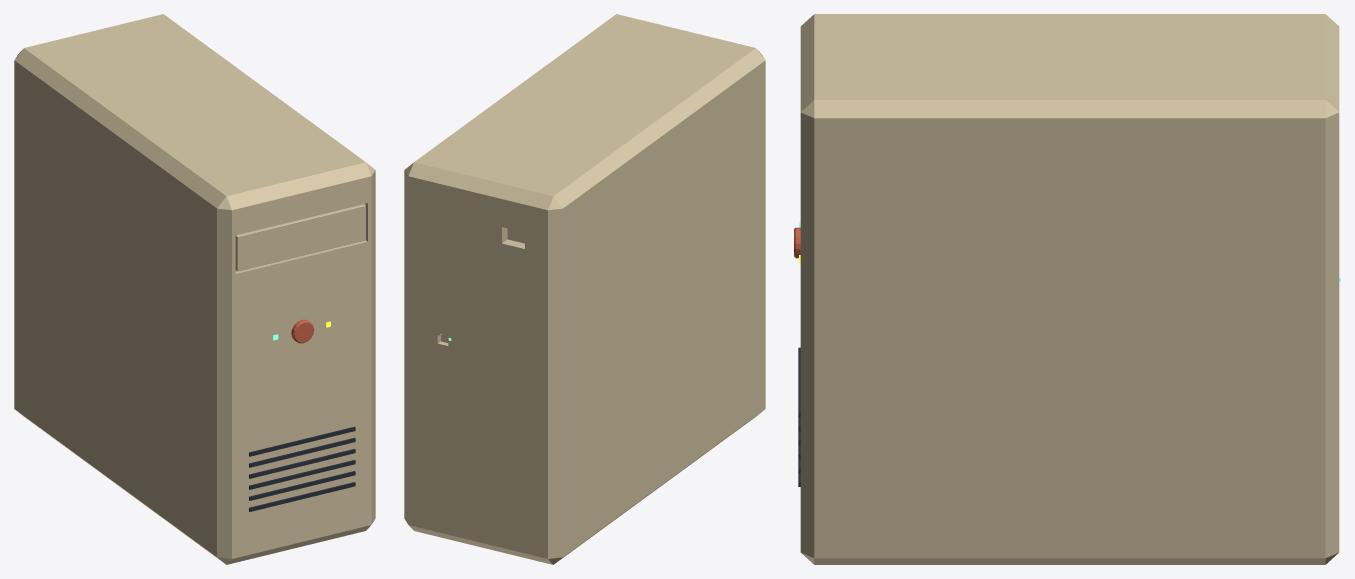
Rendered from pc_tower_old.glb.
3 views of the same model, side by side, from view 1: azimuth 30°, elevation 25°; view 2: azimuth 150°, elevation 25°; view 3: azimuth 270°, elevation 25° (orthographic). The views are drawn at different scales.
Visible parts, largest first — view 1: case, optical_tray, vent_2, vent_4, vent_0, vent_1, vent_5, vent_3; view 2: case; view 3: case.
Boxes of the visible parts, x1,y1,x2,y2 form: case: (14,14,375,564); optical_tray: (235,204,365,271); vent_2: (249,460,355,489); vent_4: (249,437,355,467); vent_0: (249,482,355,511); vent_1: (249,471,355,500); vent_5: (249,426,355,456); vent_3: (249,449,355,478); case: (404,14,765,564); case: (800,14,1339,564).
Size of the model in its own units: 0.18 by 0.4 by 0.4261.
